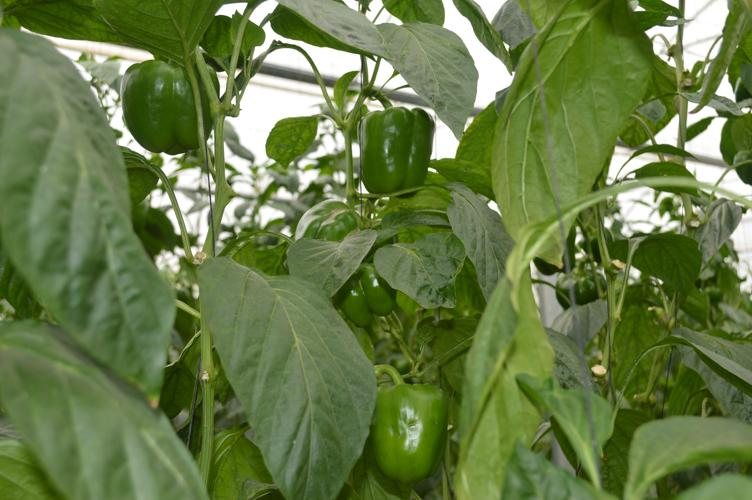BellPepper: (118, 54, 224, 158), (368, 372, 451, 489), (358, 98, 439, 205), (336, 264, 397, 328)
